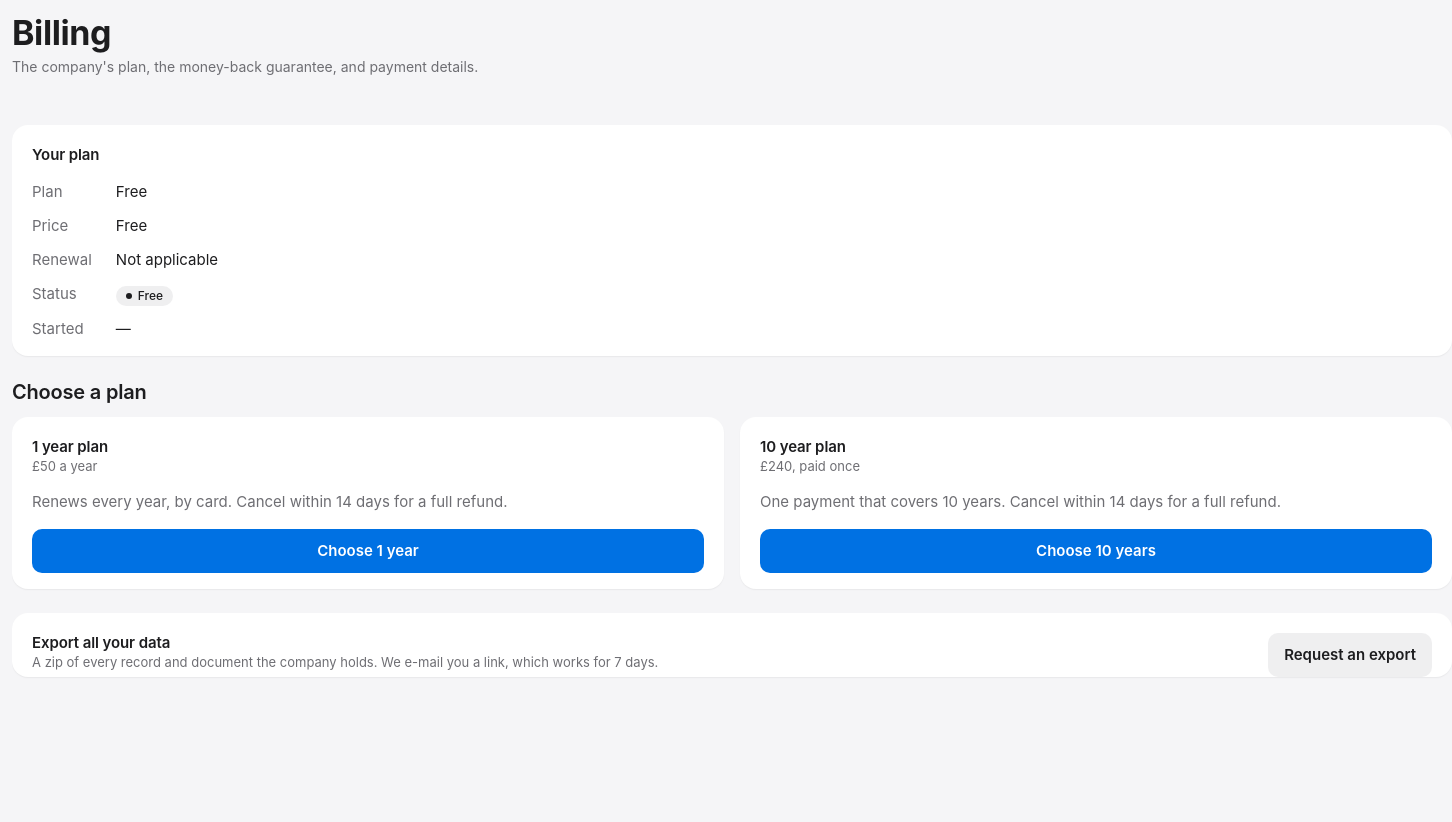
Test case: BillingPage data export (C3.1.11) › shows the API's message when an export is already being prepared
What coordinates should you click on to do the following:
click the button "Request an export"
I would click on:
 (1350, 655)
Its box is [1268,633,1432,677].
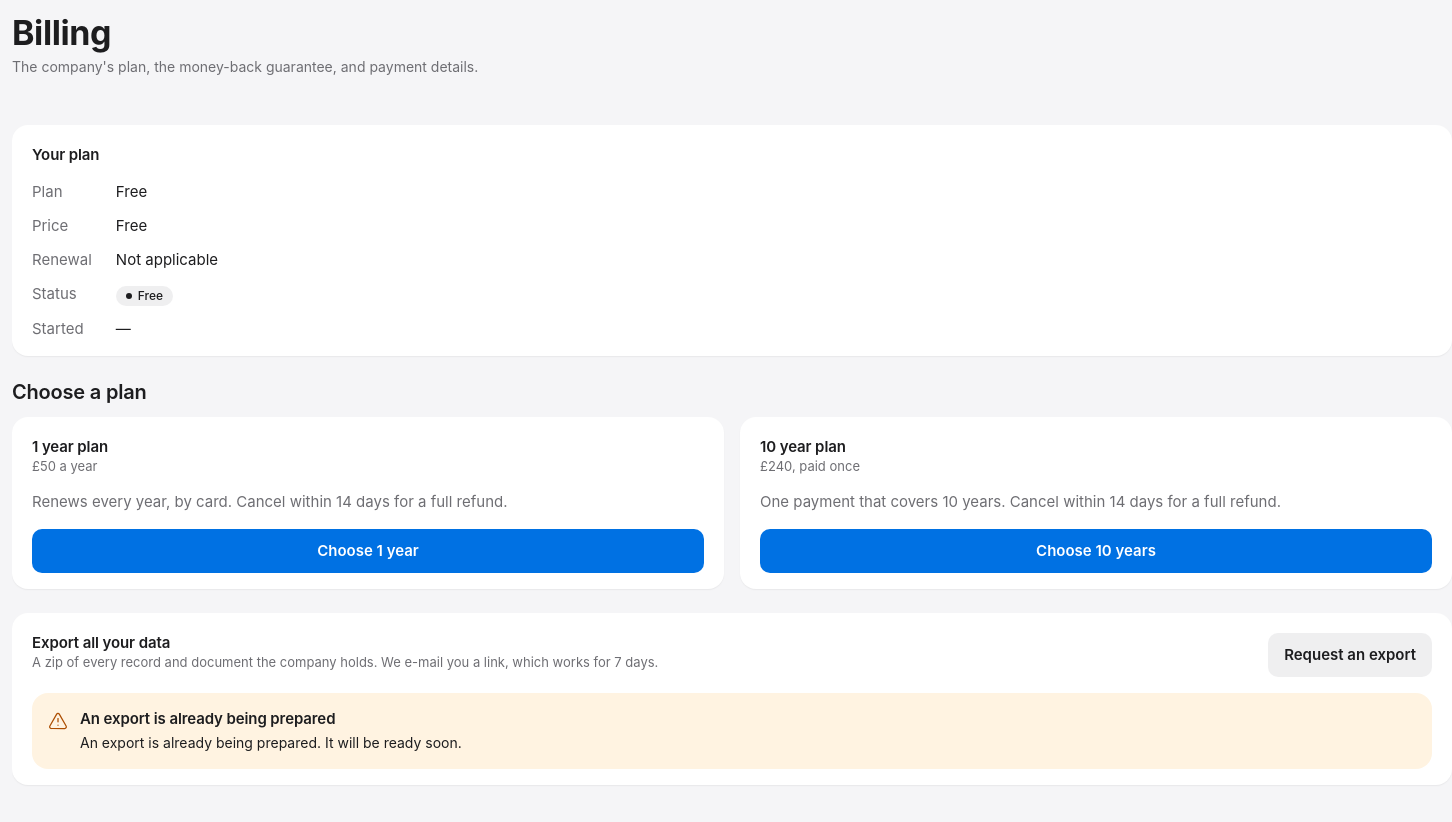
expect the text "An export is already being prepared. It will be ready soon." is shown: met, box [80,734,462,751]
